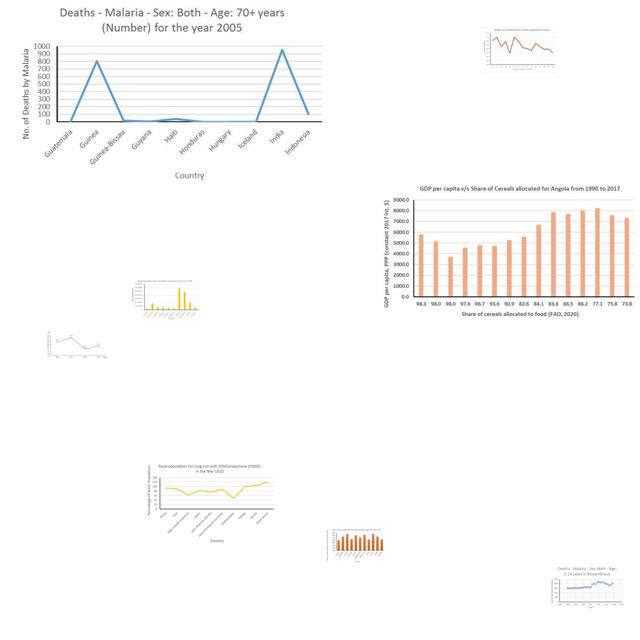Graph: (13, 1, 329, 184), (377, 181, 639, 323), (144, 461, 275, 545), (482, 27, 557, 73), (549, 565, 625, 610), (131, 279, 199, 320), (325, 528, 385, 564), (43, 330, 111, 360)
